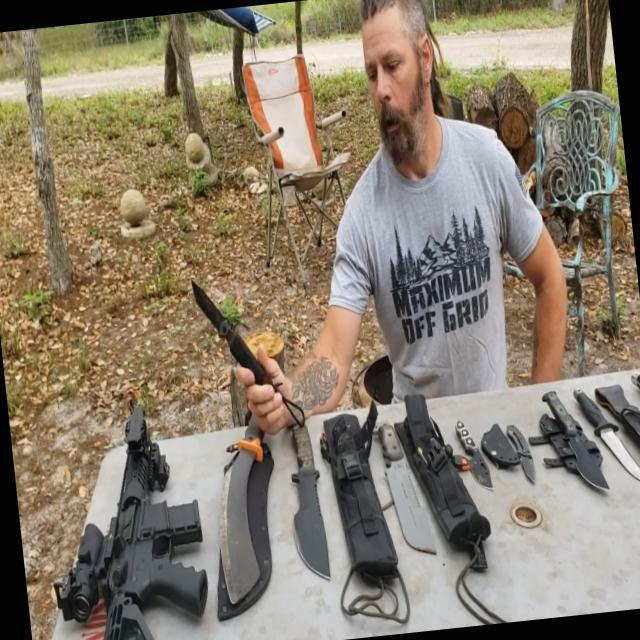knife: (194, 381, 298, 630), (264, 394, 356, 588), (169, 260, 286, 402), (366, 401, 442, 560), (533, 370, 611, 496), (571, 369, 639, 493), (443, 395, 495, 495), (496, 396, 542, 492)
long weapon: (25, 391, 222, 639)
